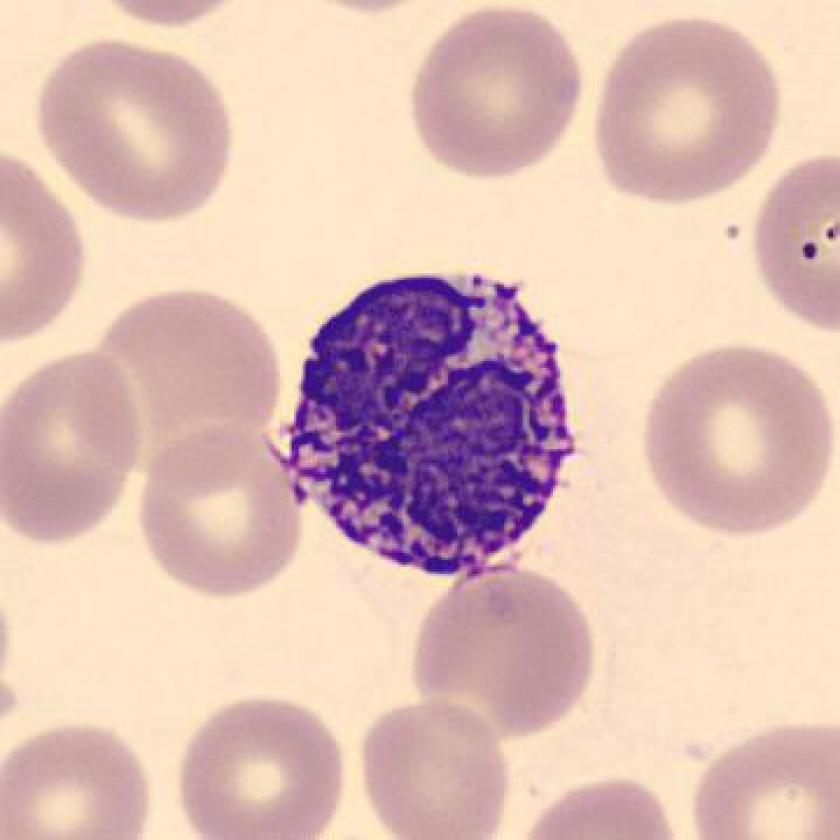basophil: (277, 265, 585, 579)
